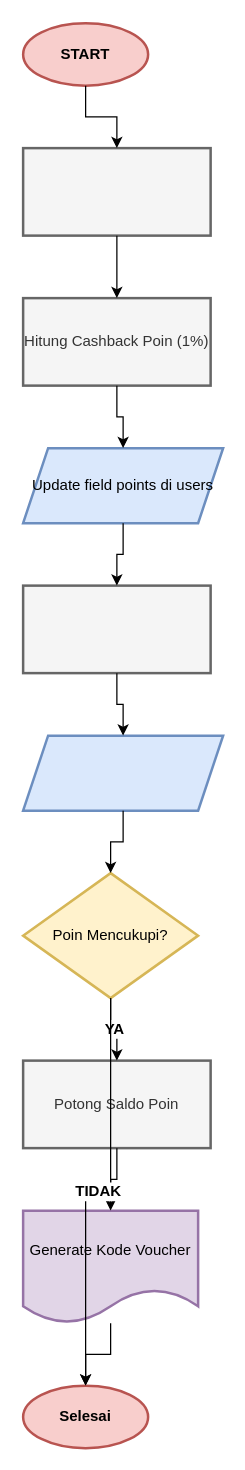
Some shapes in this 245 by 1470 pixel diagram are drawn without their labels. Here are the shapes that lost their labels. From the top down, the centre of each, then its label:
the point at 116,191: Status Pesanan = Selesai
the point at 116,629: Buka Screen SegarPoints
the point at 122,772: Pilih Voucher Diskon
